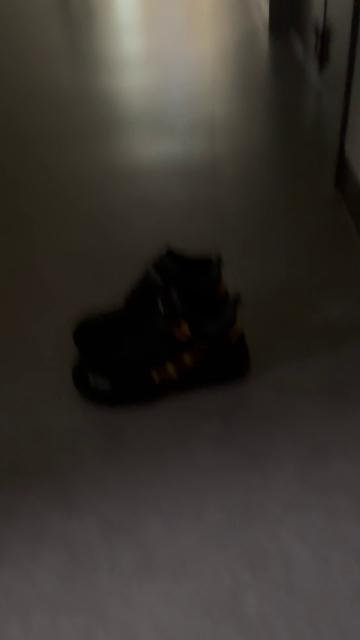shoe_worn: (68, 289, 252, 417), (72, 246, 229, 351)
